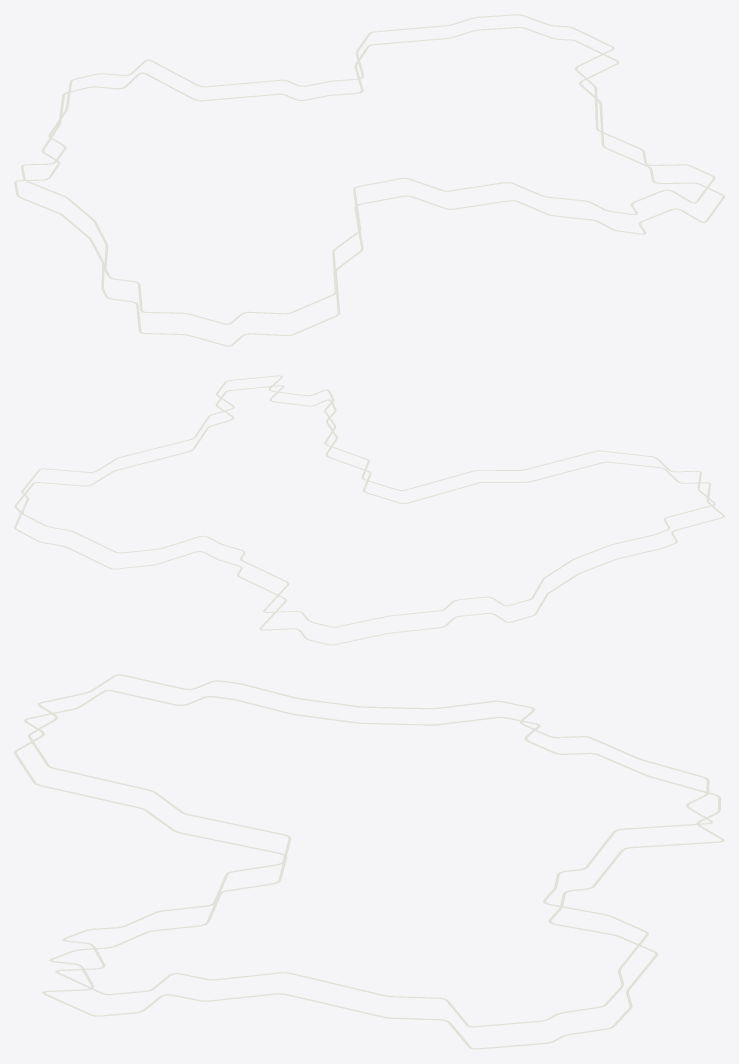
File: Punjab.glb
3 renders of one model, top to bottom at view 1: azimuth 30°, elevation 25°; view 2: azimuth 150°, elevation 25°; view 3: azimuth 270°, elevation 25°, orthographic. The views are drawn at different scales.
Visible parts, largest first — view 1: Map_rivers.001; view 2: Map_rivers.001; view 3: Map_rivers.001.
Boxes of the visible parts, x1,y1,x2,y2 form: Map_rivers.001: [14, 14, 724, 346]; Map_rivers.001: [14, 375, 724, 645]; Map_rivers.001: [14, 674, 724, 1049].
Size of the model in its own units: 1.15 by 0.0282 by 0.9623.
1 material, 1 textured.
